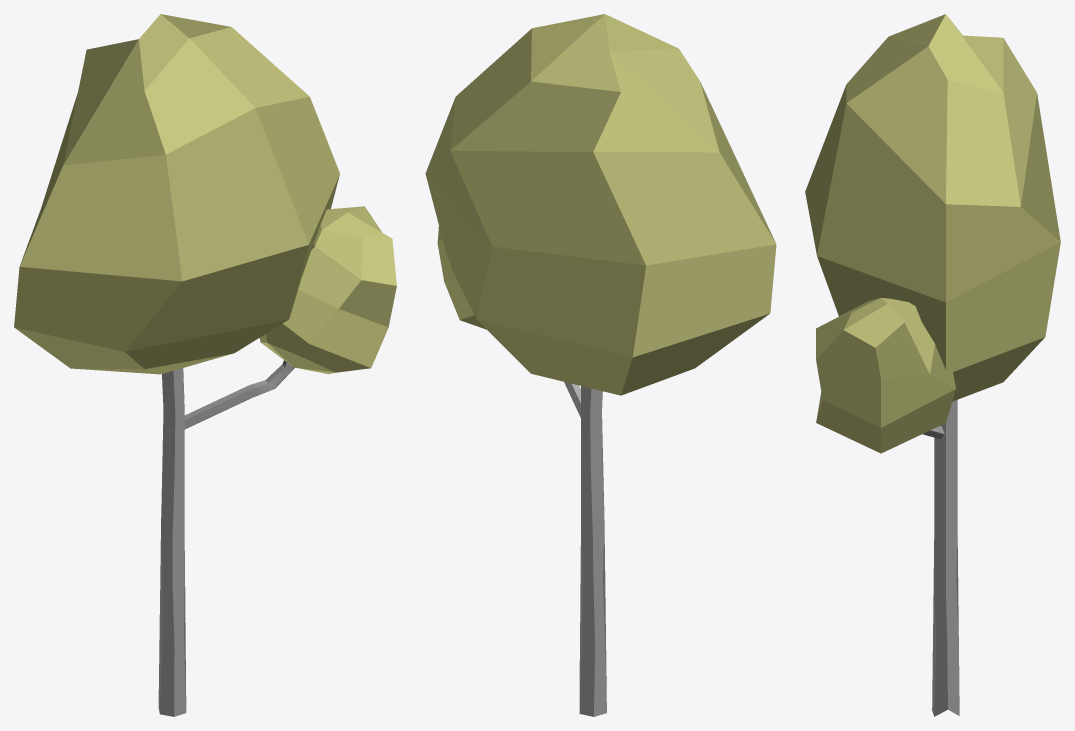
File: tree_01.fbx
3 renders of one model, left to right at view 1: azimuth 30°, elevation 25°; view 2: azimuth 150°, elevation 25°; view 3: azimuth 270°, elevation 25°, orthographic.
Parts seen in each view (by area): view 1: tree; view 2: tree; view 3: tree.
Part boxes in pixels (x1,y1,x2,y2): tree: (14, 14, 396, 716); tree: (425, 14, 776, 716); tree: (805, 14, 1060, 716).
Size of the model in its own units: 3.73 by 7.16 by 2.39.
